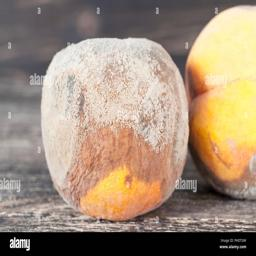Peach Rotten: (33, 34, 188, 222), (183, 9, 256, 194)
